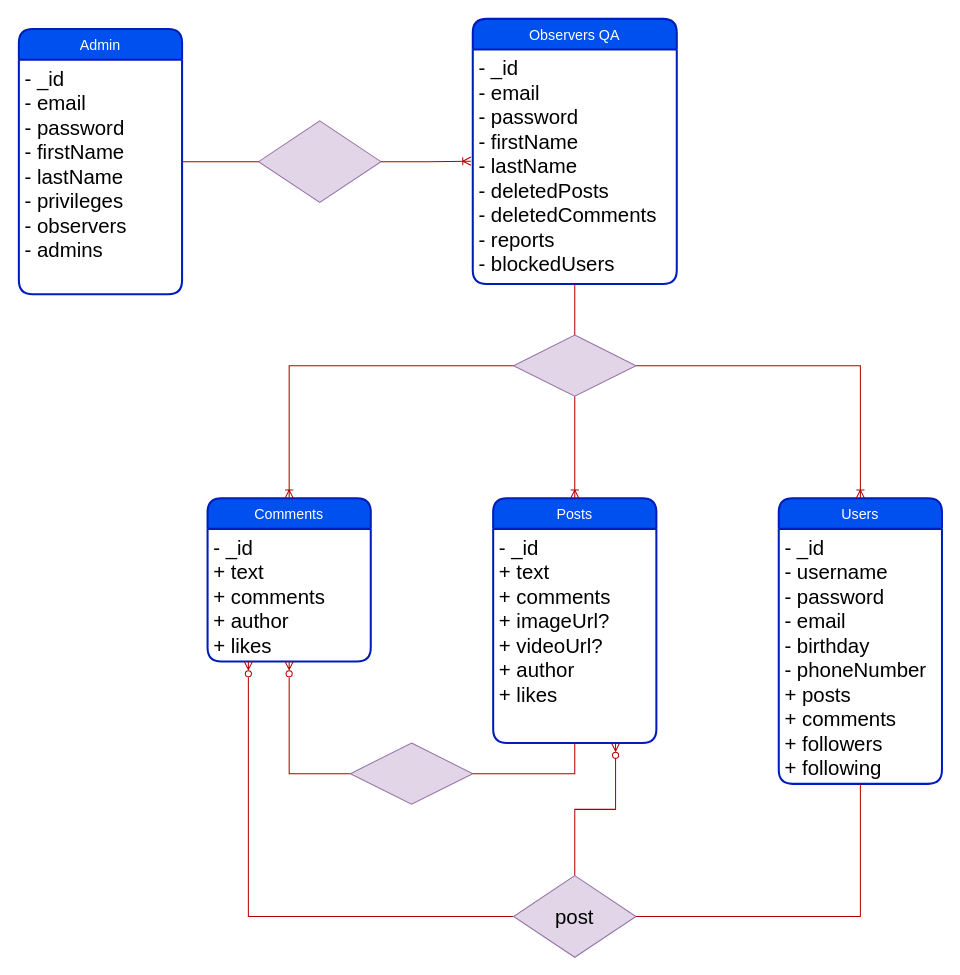
This 960x975 diagram has some shape labels left out. Each missing label, with the centre of its shape:
"Contains" goes at [411,773].
"control" goes at [574,365].
"make" goes at [319,161].
